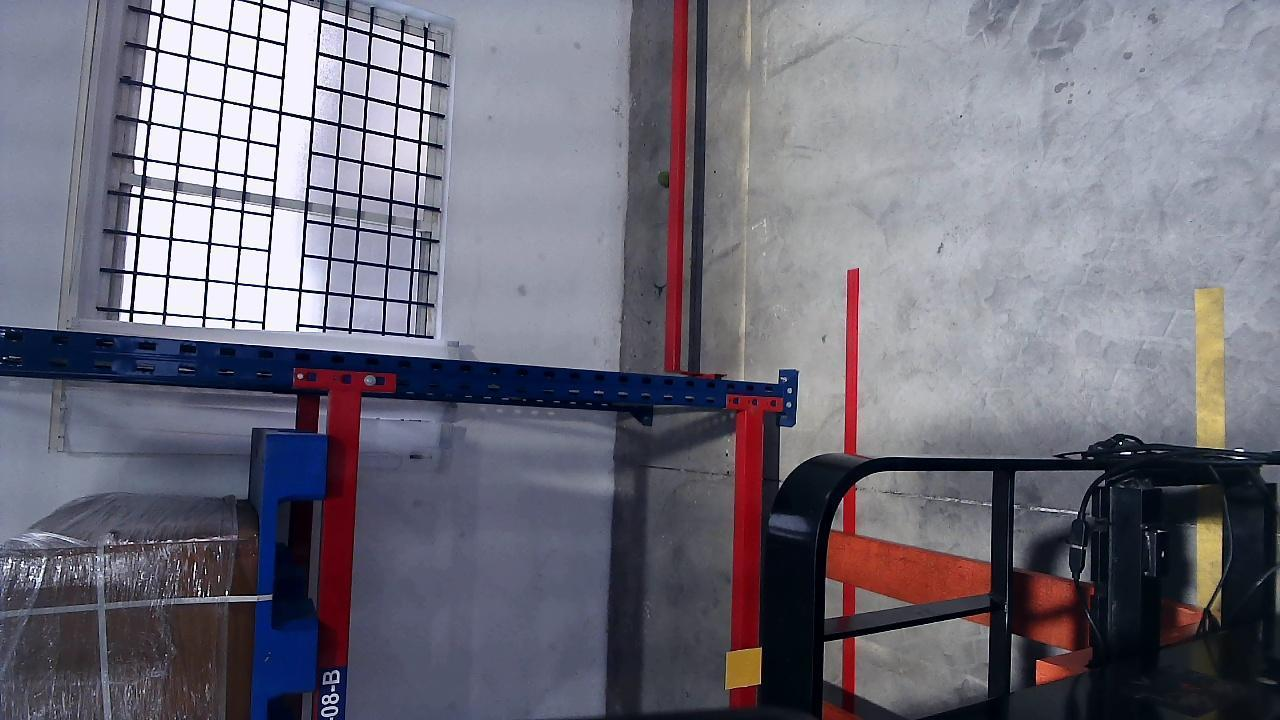red_line: (844, 268, 861, 453)
yellow_line: (1195, 286, 1225, 448)
